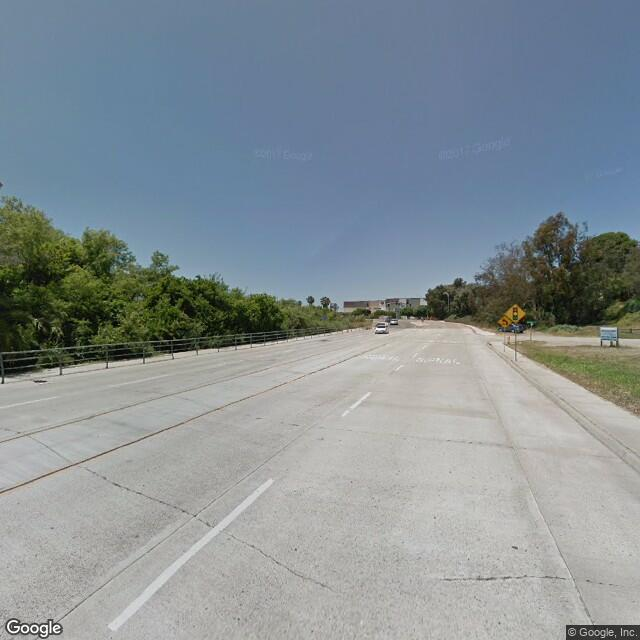litter: (29, 377, 50, 387)
